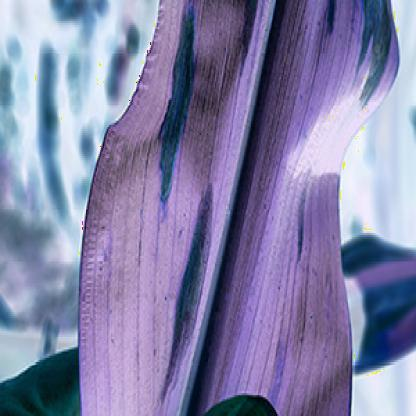corn leaf blight: (86, 2, 395, 385)
